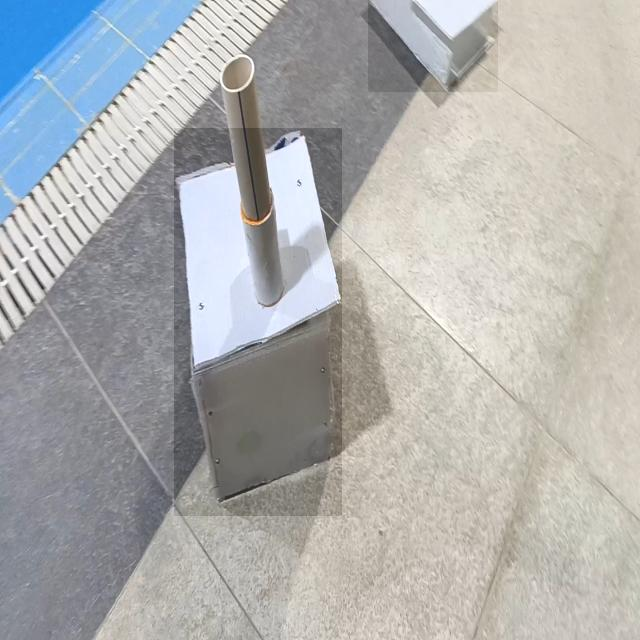Cube: (174, 128, 342, 516)
Cuboid: (368, 0, 498, 92)
